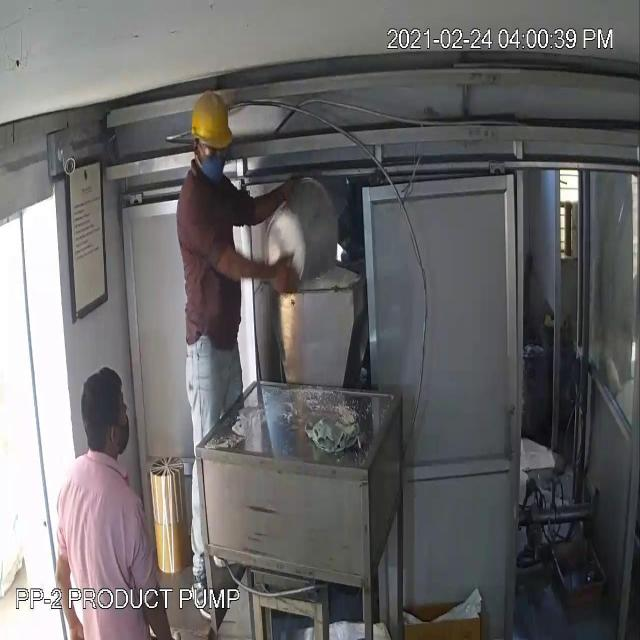helmet: (189, 91, 235, 148)
no-helmet: (71, 366, 141, 425)
